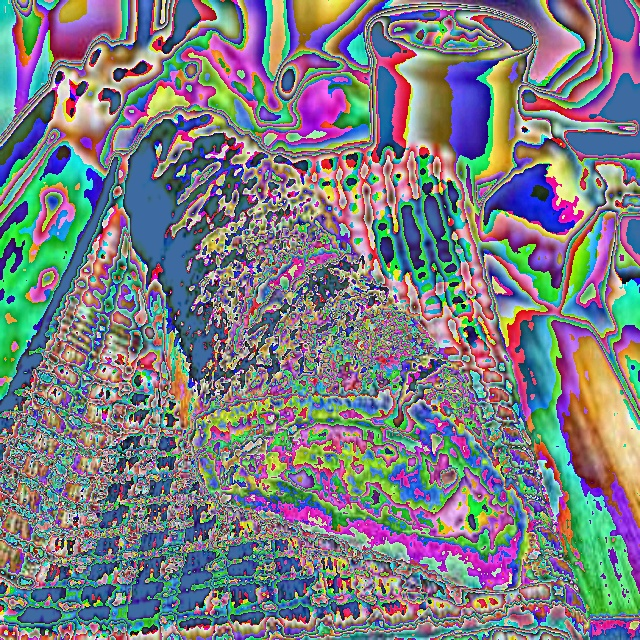background: (122, 106, 530, 593), (140, 155, 616, 317), (109, 14, 499, 49)
